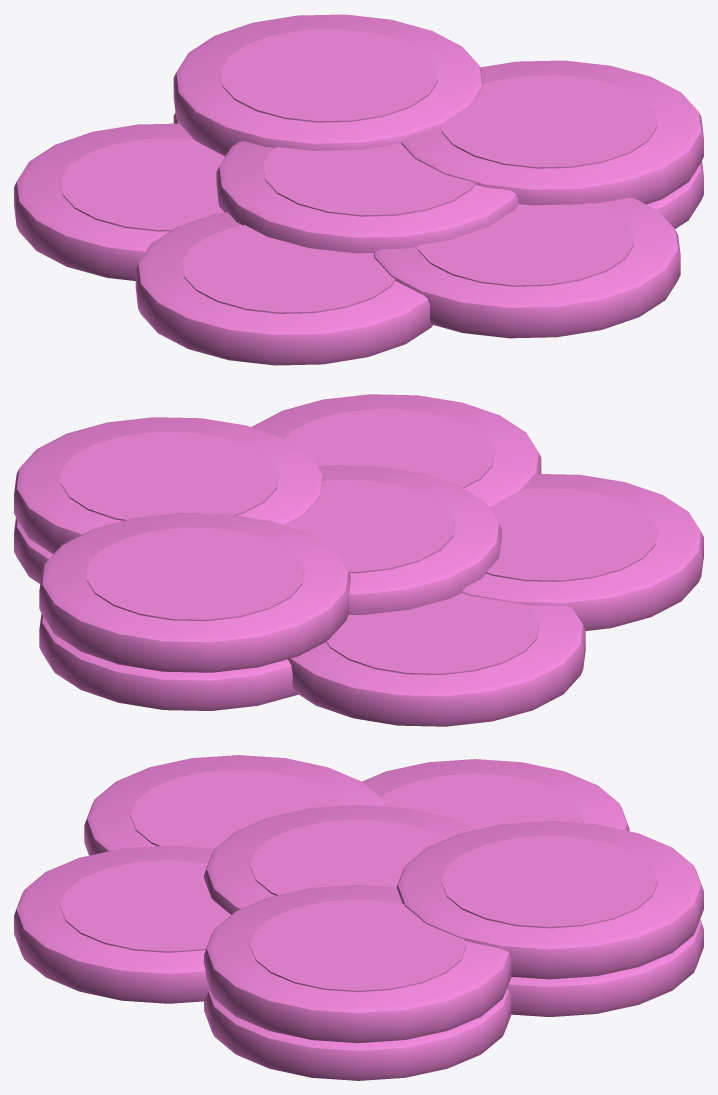
Rendered from Item_CoinsMedium.fbx.
3 renders of one model, top to bottom at view 1: azimuth 30°, elevation 25°; view 2: azimuth 150°, elevation 25°; view 3: azimuth 270°, elevation 25°, orthographic.
Visible parts, largest first — view 1: Coins; view 2: Coins; view 3: Coins.
Part boxes in pixels (x1,y1,x2,y2): Coins: (14, 14, 703, 365); Coins: (14, 394, 703, 726); Coins: (14, 755, 703, 1080).
Size of the model in its own units: 4.36 by 0.61 by 4.47.
Materials: 1 (1 with a texture image).
